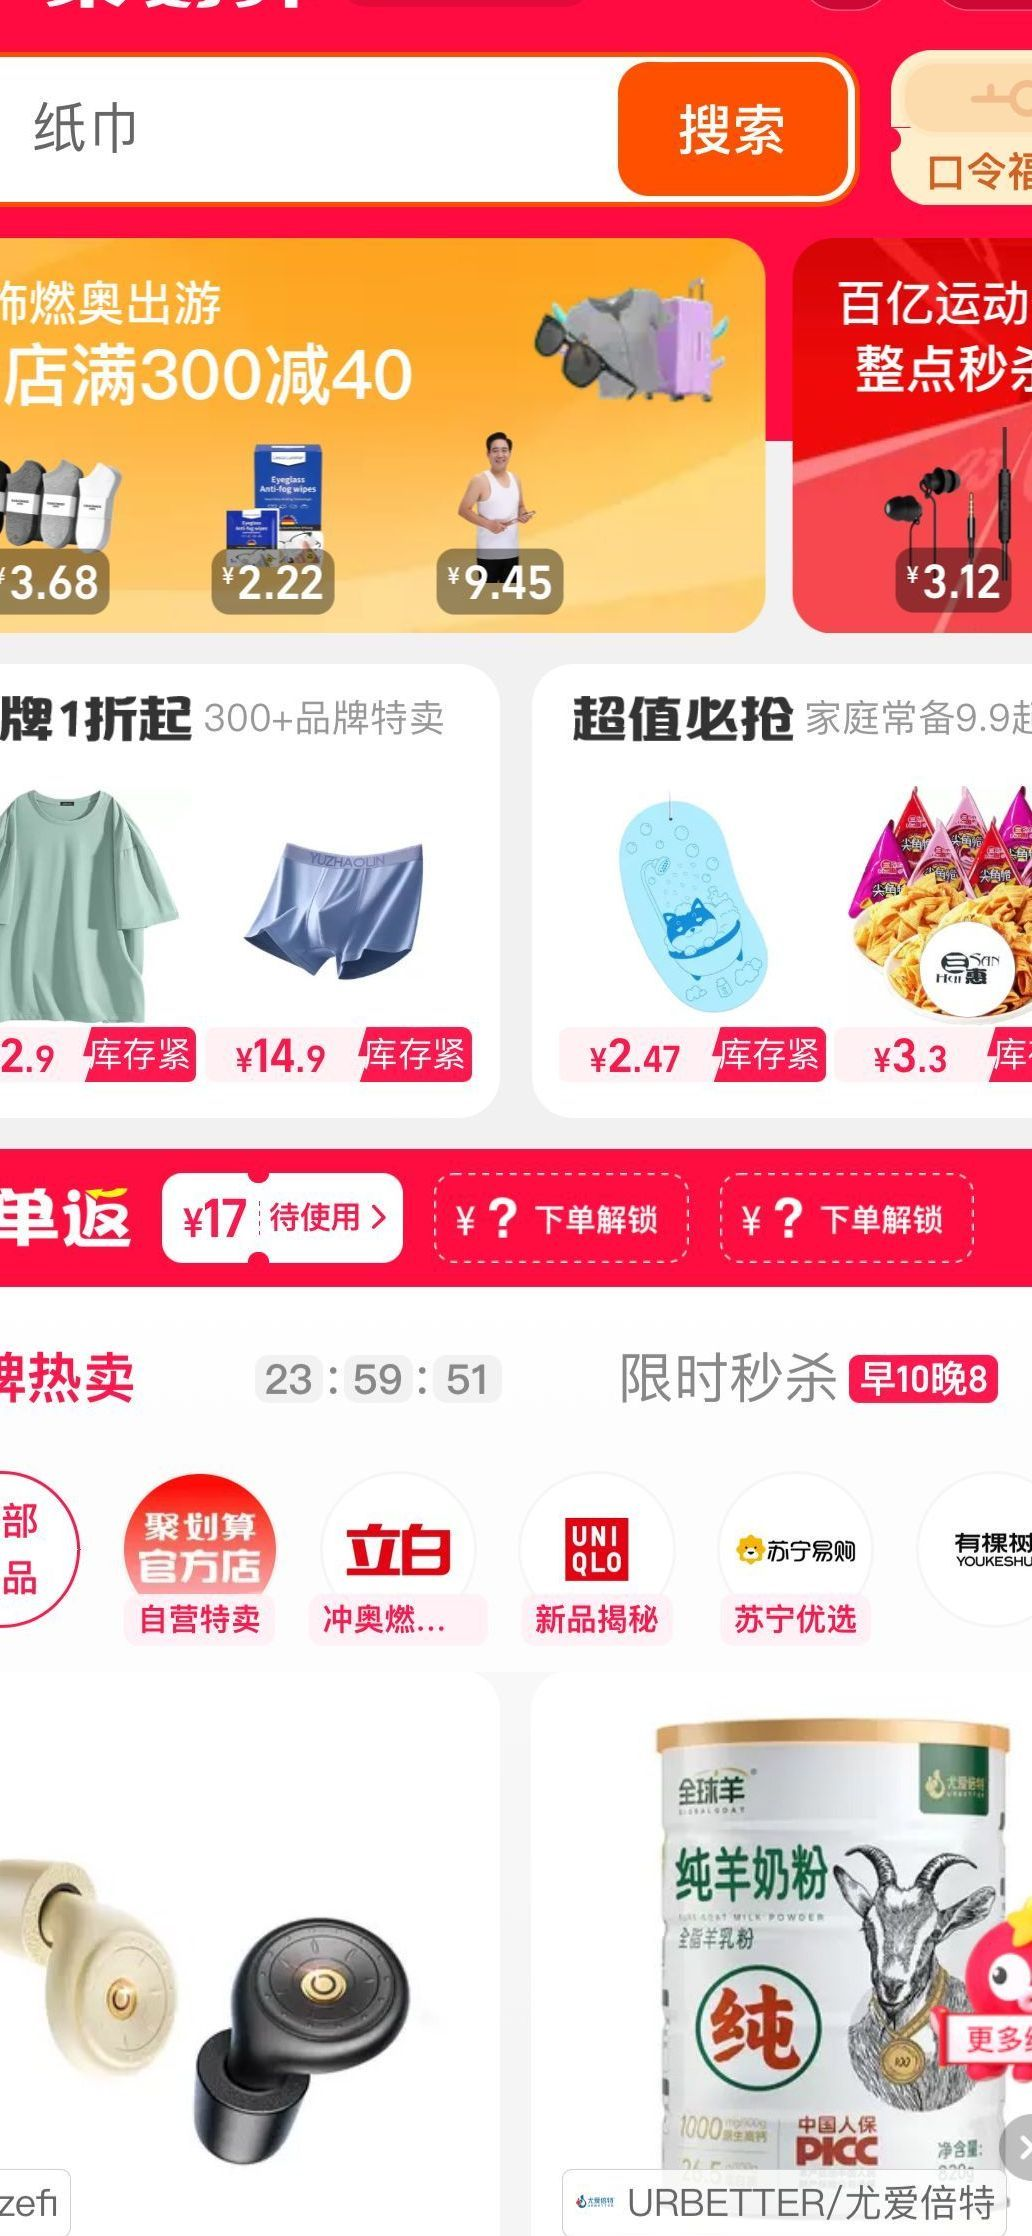item: (7, 1648, 515, 2236), (532, 1648, 1032, 2236)
seckill: (7, 647, 1032, 1131)
